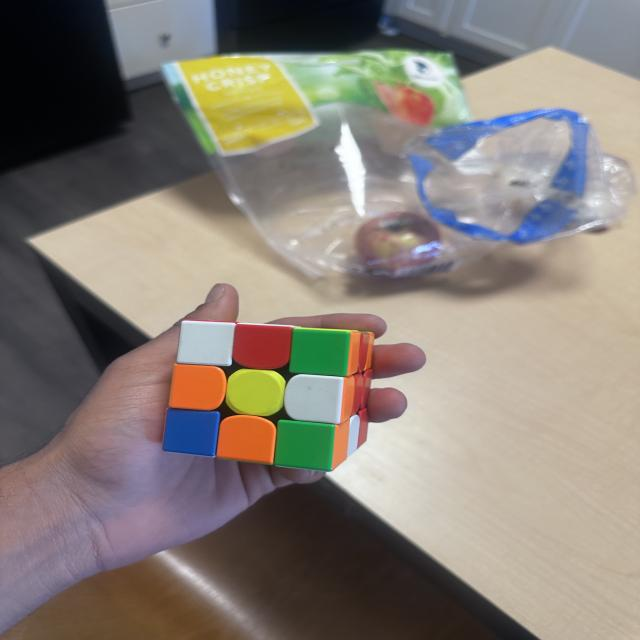sticker: (289, 327, 356, 379), (273, 418, 336, 472), (283, 374, 347, 426), (215, 413, 277, 465), (160, 407, 221, 459), (174, 318, 237, 368), (232, 322, 296, 371), (225, 368, 287, 418), (168, 363, 228, 412), (331, 413, 353, 466), (335, 372, 357, 424), (352, 369, 371, 416), (358, 330, 375, 374), (346, 413, 362, 458), (356, 408, 369, 451)
